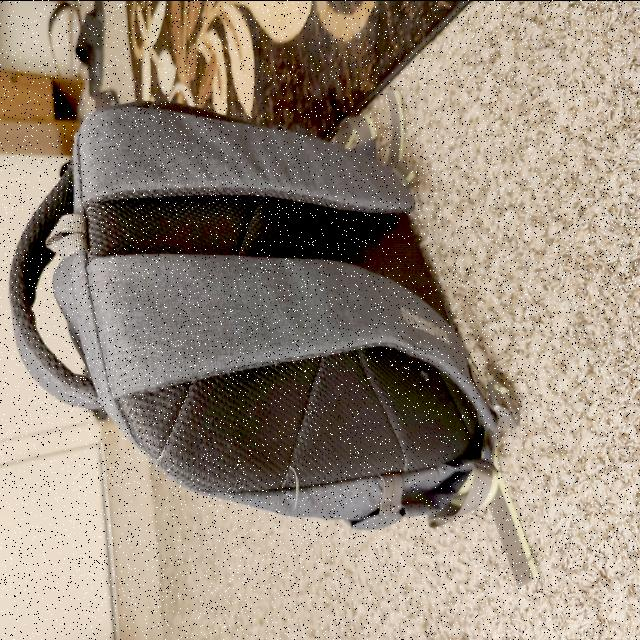bag: (6, 112, 446, 498)
